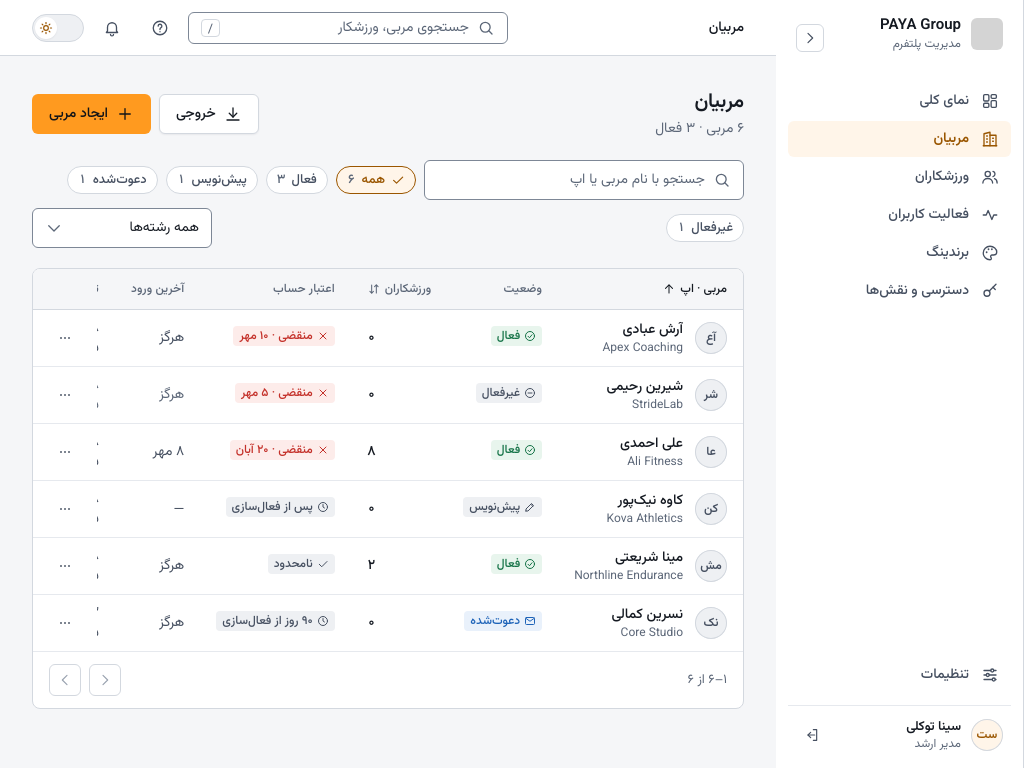
Test: A03 · Coaches › extends a coach by 30 days through the API
expect the text "آرش عبادی" is shown: met, box [622,318,683,340]
Click the 1st button named "اقدامات" at [65, 338], box [49,322,81,354]
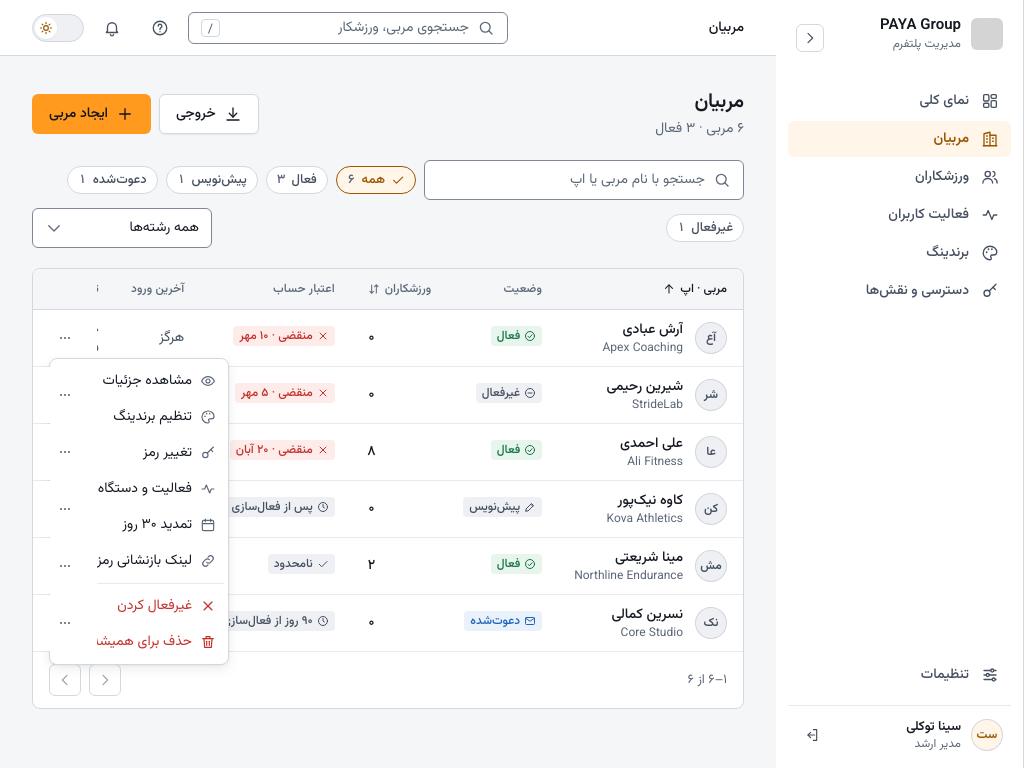
Click the menu item "تمدید ۳۰ روز" at [139, 524], box [54,506,224,542]
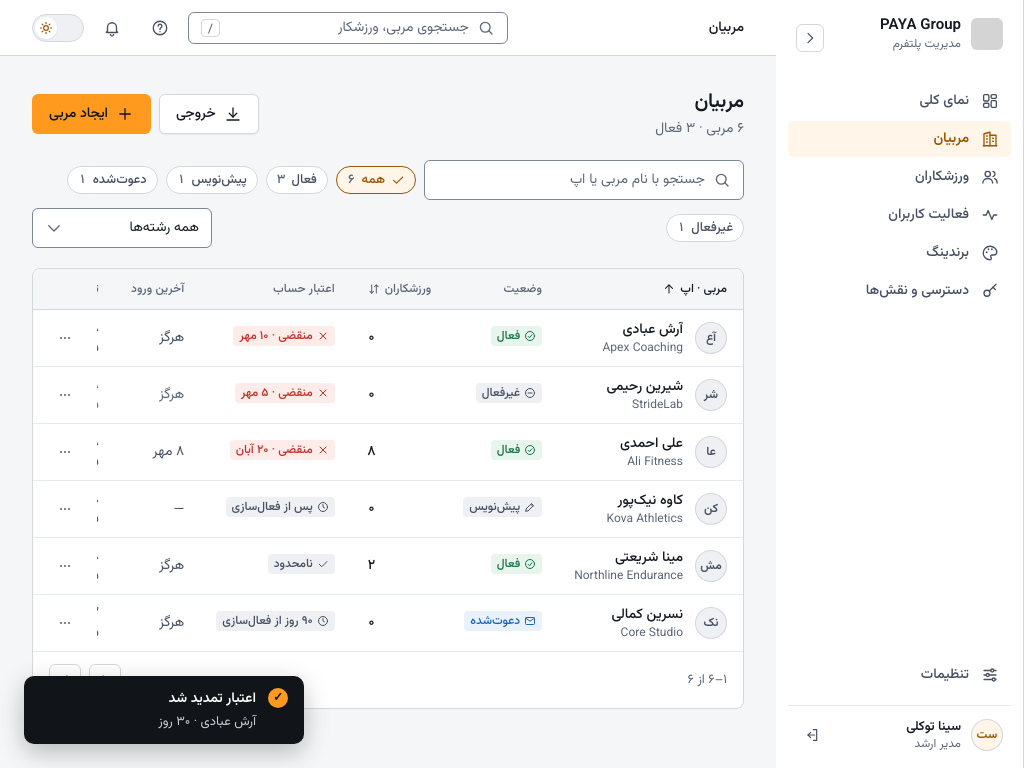
expect the text "اعتبار تمدید شد" is shown: met, box [158,688,256,710]
